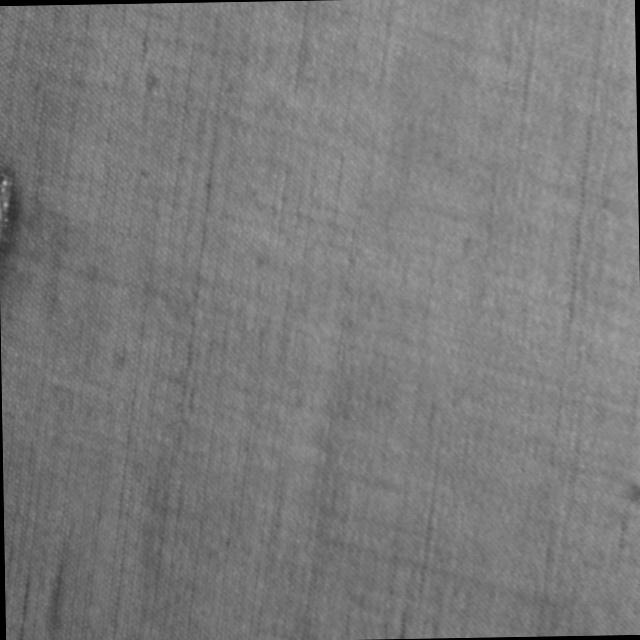hole: (0, 164, 20, 257)
